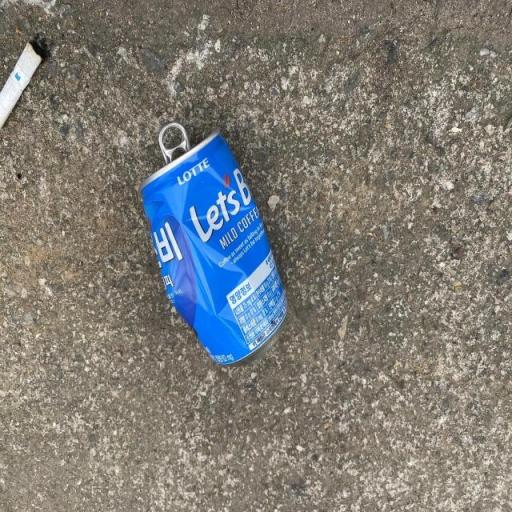metal: (100, 82, 321, 396)
